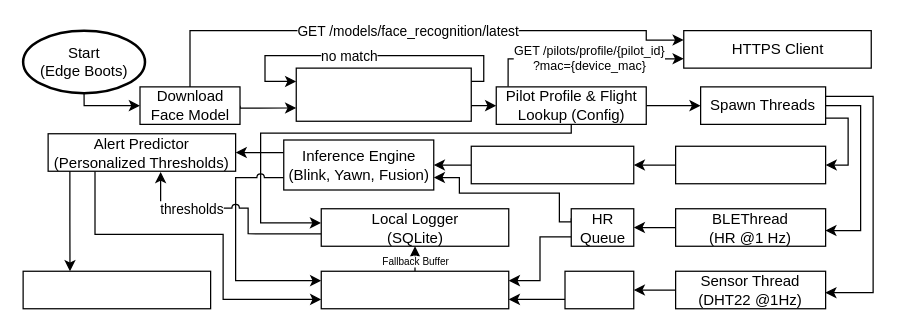
Some shapes in this 905 by 331 pixel diagram are drawn without their labels. The shapes that lost their labels are listed below. From the top down, each one's centre as x and y in pixels, then its label:
At point 383,94: "Pilot Face Recognition (5FPS, Blue LED flicker)".
At point 552,164: "Preprocessing (Face/Eye/Mouth Crop)".
At point 750,164: "CameraThread (640*360 @30FPS)".
At point 116,289: "Alert Manager (LED, Motor, Buzzer)".
At point 414,289: "Network Connector (MQTT/TLS)".
At point 599,289: "Sensor Queue".
